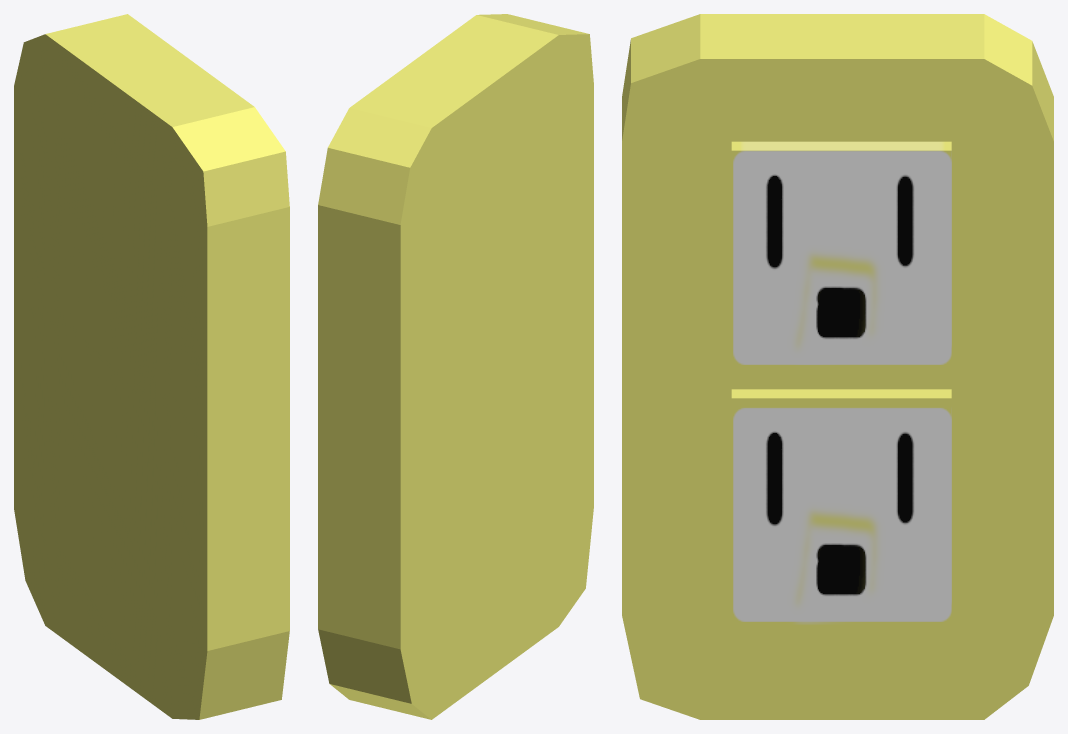
The model's file is Outlet_Main.fbx.
3 views of the same model, side by side, from view 1: azimuth 30°, elevation 25°; view 2: azimuth 150°, elevation 25°; view 3: azimuth 270°, elevation 25° (orthographic). The views are drawn at different scales.
Parts seen in each view (by area): view 1: Cube; view 2: Cube; view 3: Cube.
Boxes of the visible parts, x1=… form: Cube: x1=14, y1=14, x2=289, y2=719; Cube: x1=318, y1=14, x2=593, y2=719; Cube: x1=622, y1=14, x2=1053, y2=719.
Size of the model in its own units: 58.99 by 338 by 200.
Materials: 1 (1 with a texture image).
